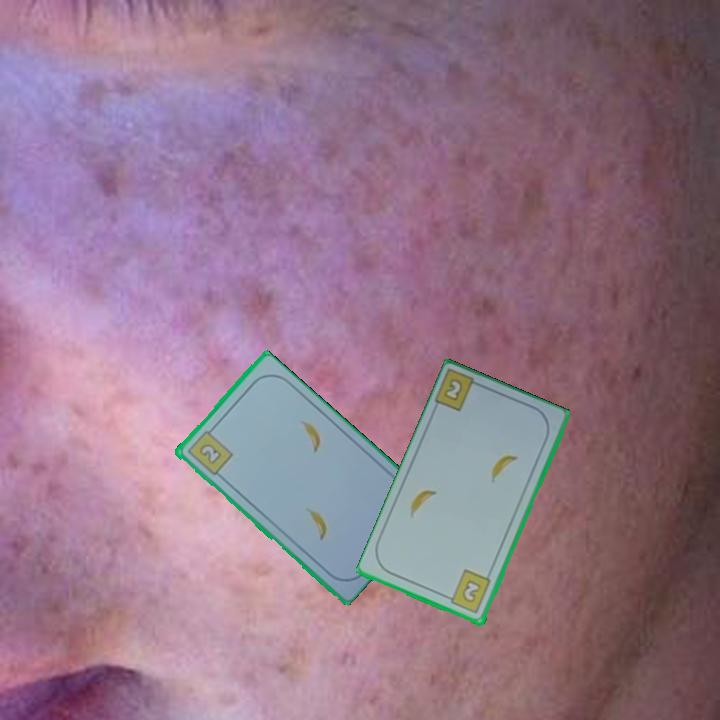2b: (183, 423, 235, 478), (442, 567, 494, 617), (440, 377, 464, 404)
